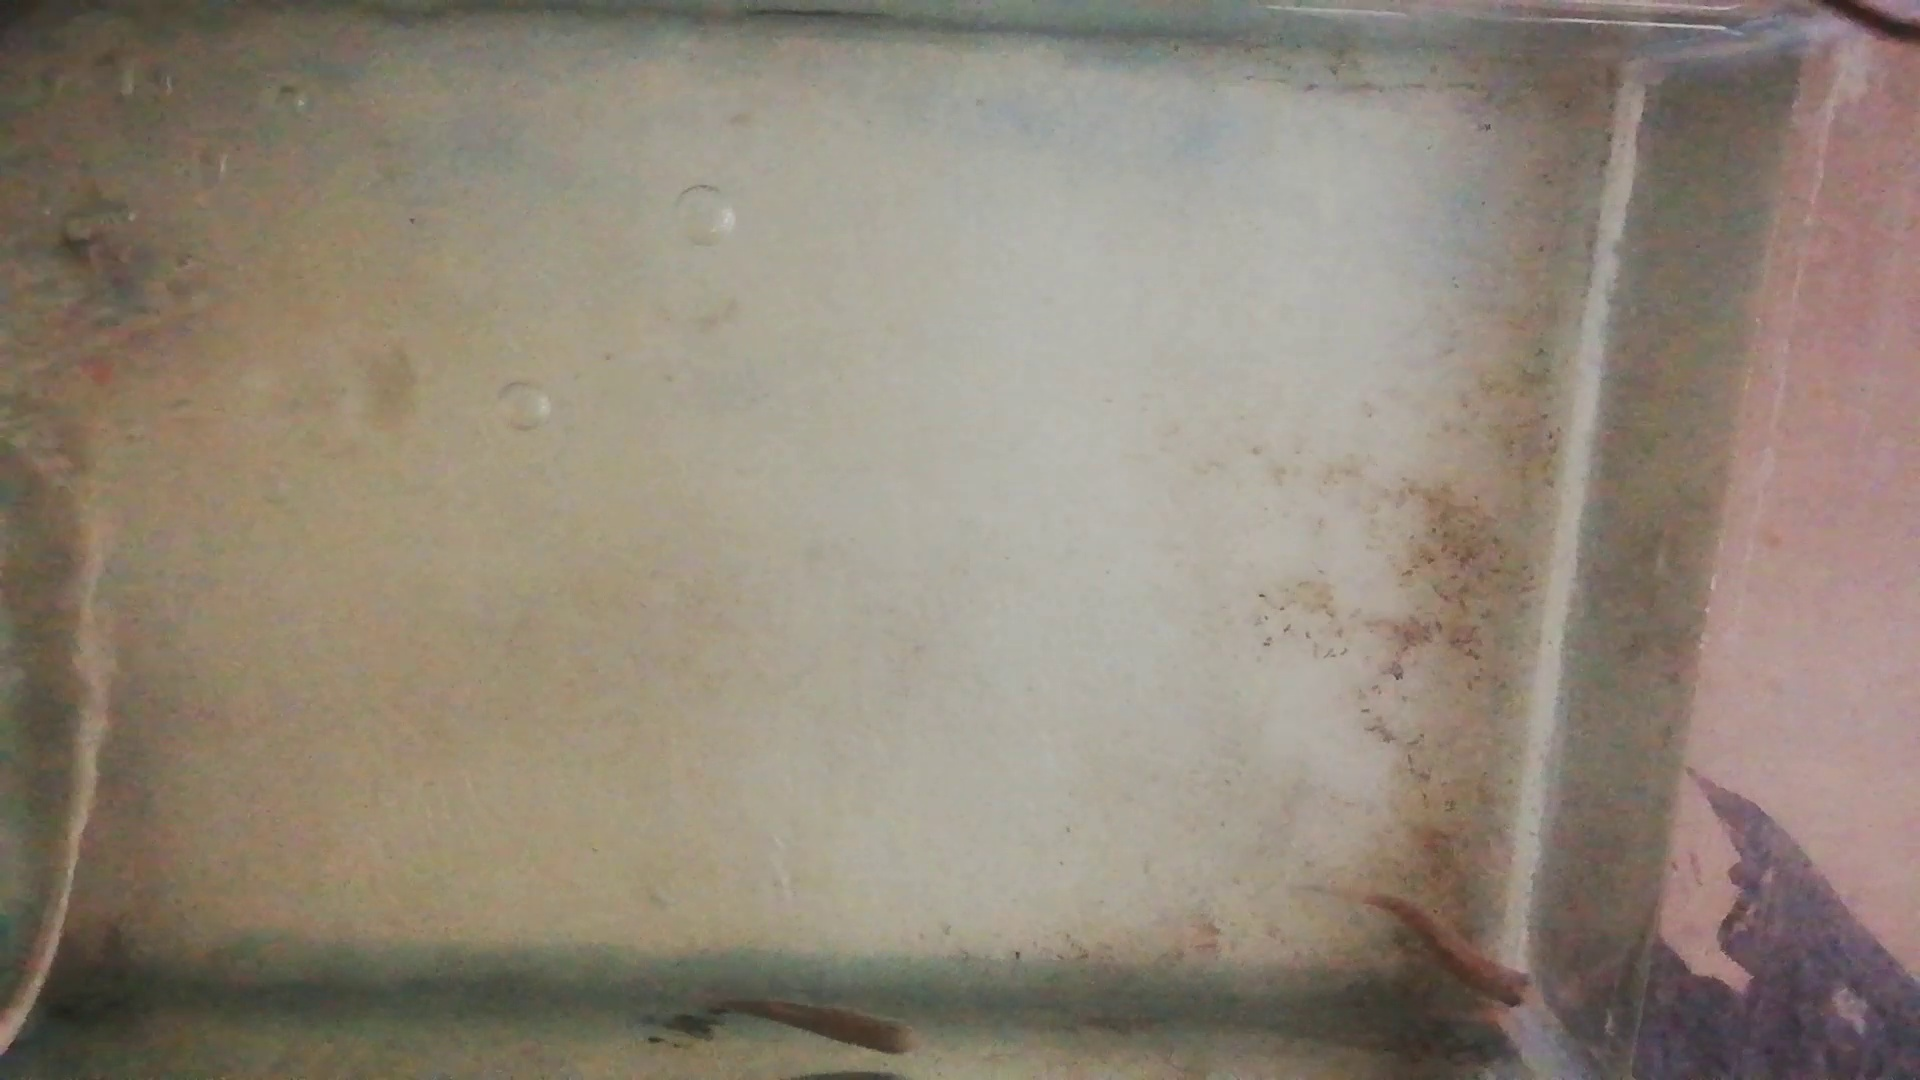fish: (1352, 891, 1543, 1007), (708, 1000, 916, 1054)
